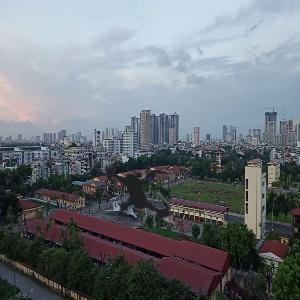drone: (60, 113, 218, 271)
